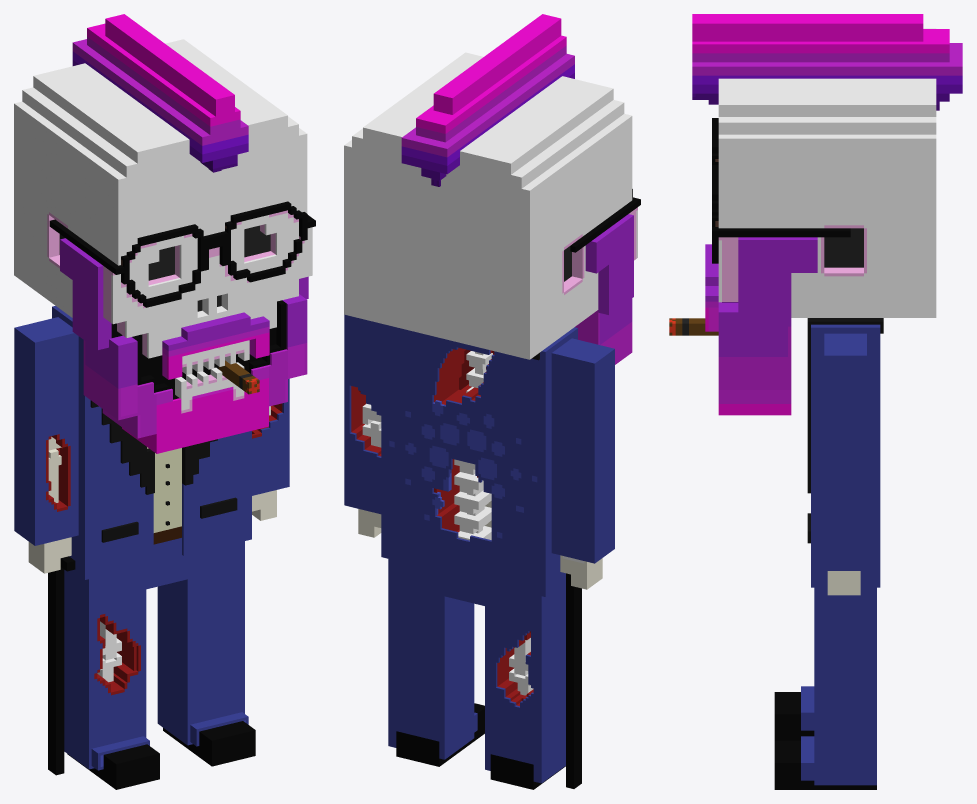
File: machiavellian.glb
The picture shows the model from 3 angles, left to right: view 1: azimuth 30°, elevation 25°; view 2: azimuth 150°, elevation 25°; view 3: azimuth 270°, elevation 25°; orthographic projection. The views are drawn at different scales.
Visible parts, largest first — view 1: machiavellian-expo.001; view 2: machiavellian-expo.001; view 3: machiavellian-expo.001.
Part boxes in pixels (left/top/right/bottom): machiavellian-expo.001: left=14, top=14, right=315, bottom=789; machiavellian-expo.001: left=344, top=14, right=640, bottom=789; machiavellian-expo.001: left=669, top=14, right=962, bottom=789.
Bounding box in the file's own units: 0.6882 × 1.82 × 0.6586.
